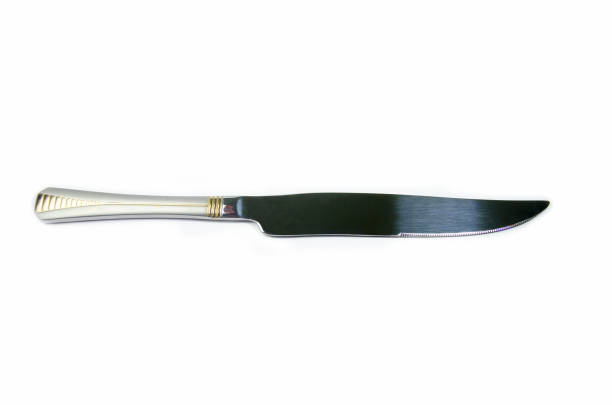knife: (32, 184, 551, 240)
